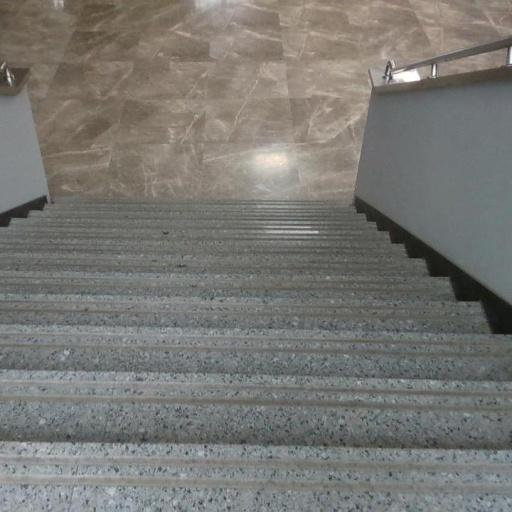stairs: (0, 199, 511, 510)
